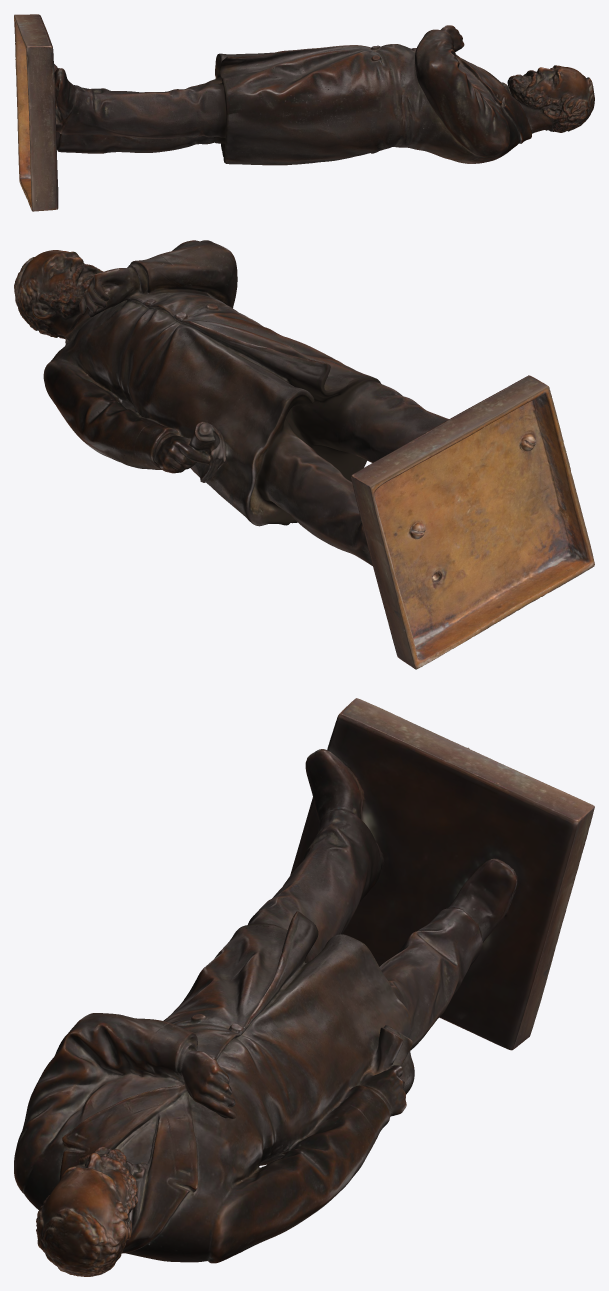
The model's file is preview.glb.
3 views of the same model, one above another, from view 1: azimuth 30°, elevation 25°; view 2: azimuth 150°, elevation 25°; view 3: azimuth 270°, elevation 25° (orthographic). The views are drawn at different scales.
Size of the model in its own units: 474 by 170 by 296.
1 material, 1 textured.
